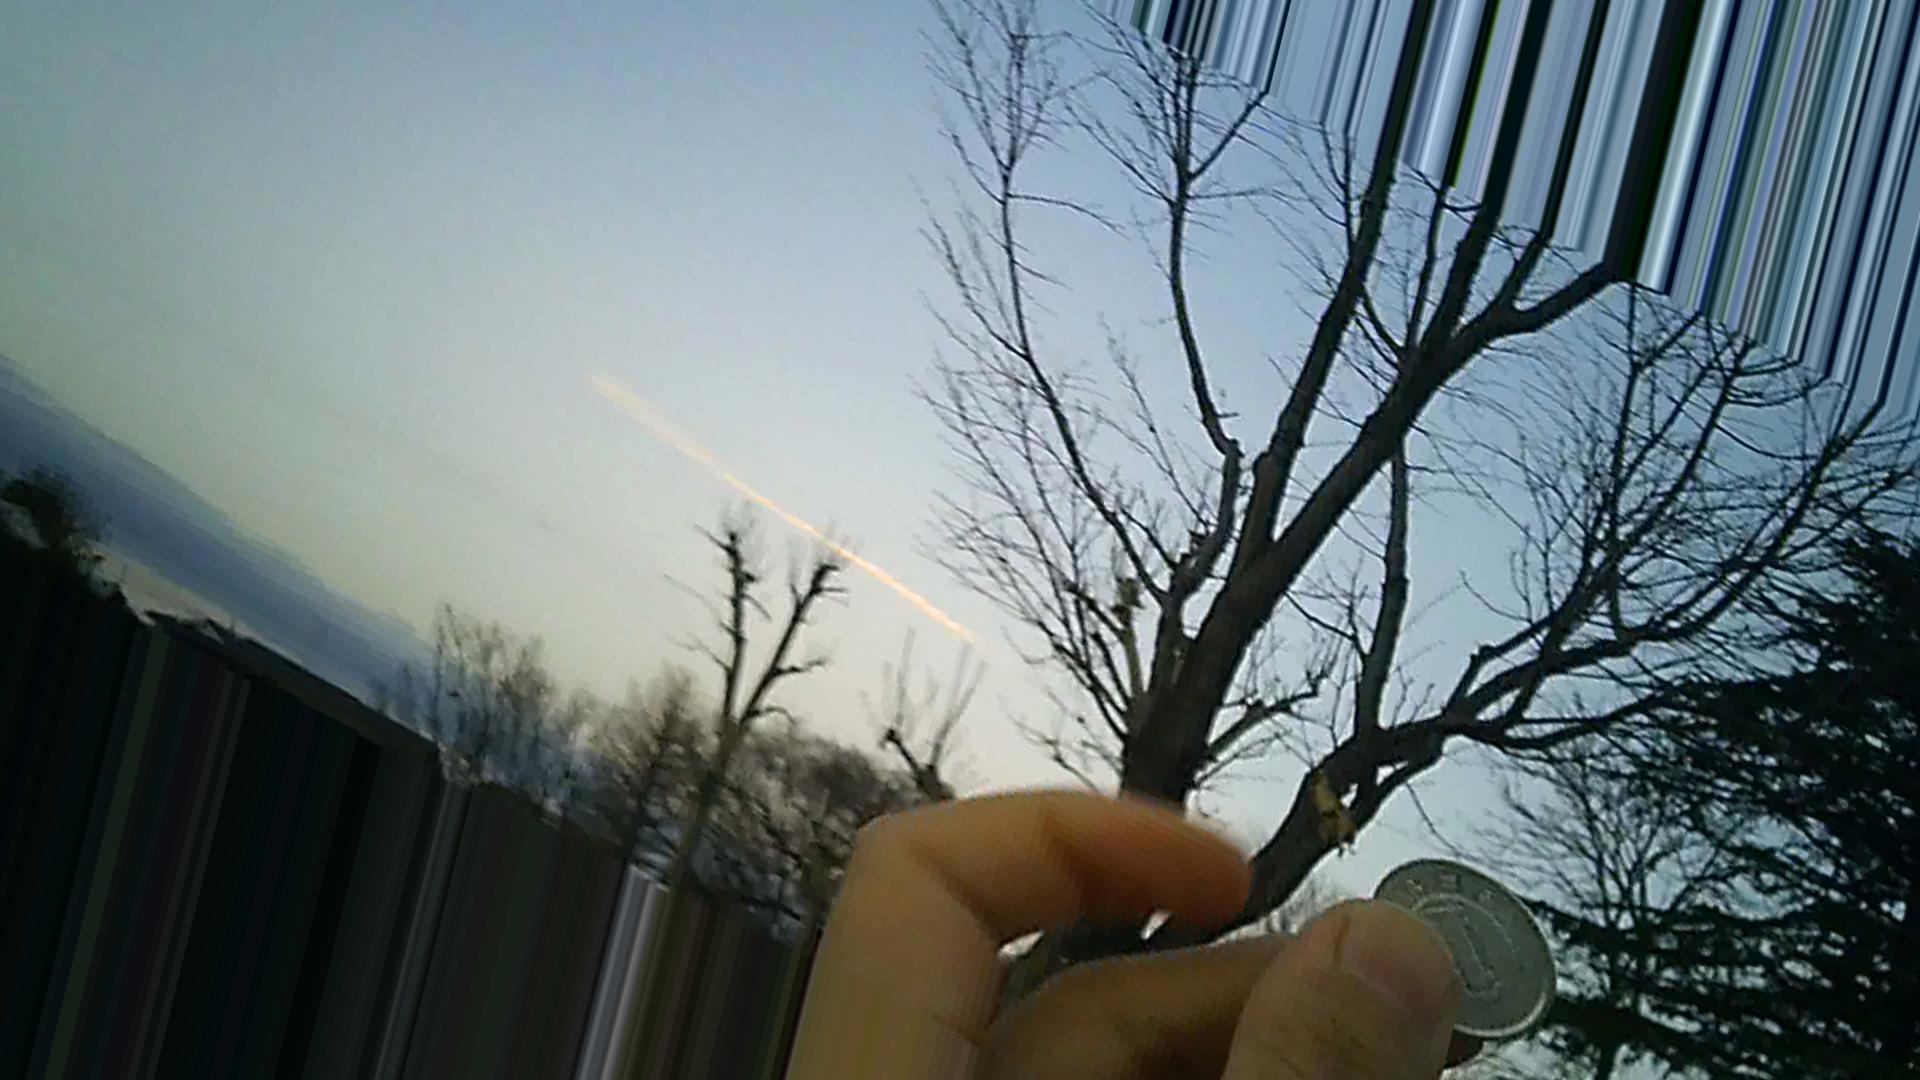1 Yen: (1365, 844, 1575, 1036)
